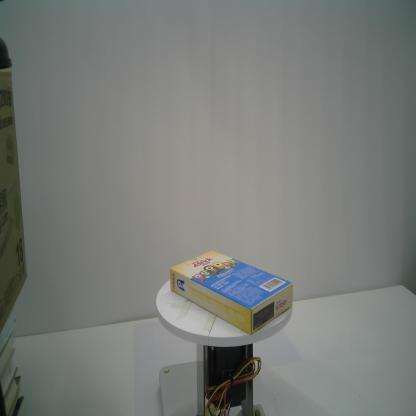Dessert: (168, 249, 295, 336)
